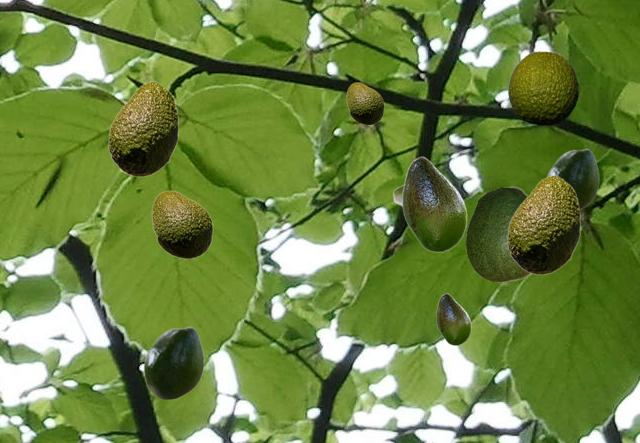avocado: (507, 175, 579, 274), (108, 81, 177, 176), (465, 186, 531, 281), (402, 156, 466, 251), (508, 51, 577, 124), (143, 326, 203, 399), (151, 190, 212, 258), (546, 148, 598, 210), (436, 293, 470, 344), (346, 82, 383, 124), (392, 184, 402, 206)
